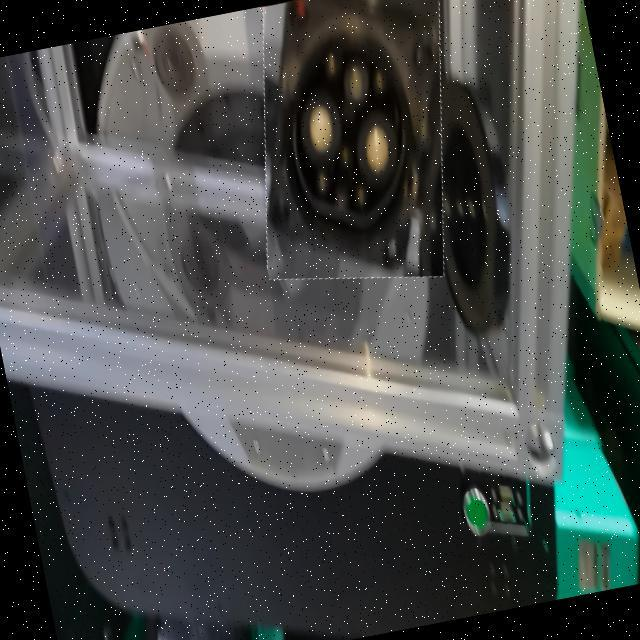GB-T: (262, 9, 436, 260)
